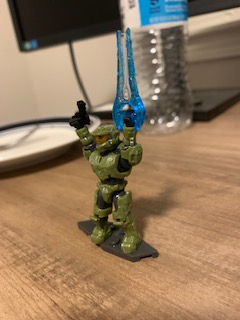chief: (70, 114, 145, 255)
pistol: (67, 100, 93, 131)
spartan: (68, 112, 143, 253)
up: (67, 111, 143, 184)
